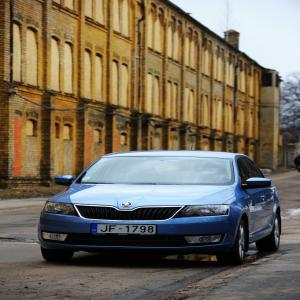Vehicle-registration-plate: (92, 225, 156, 234)
